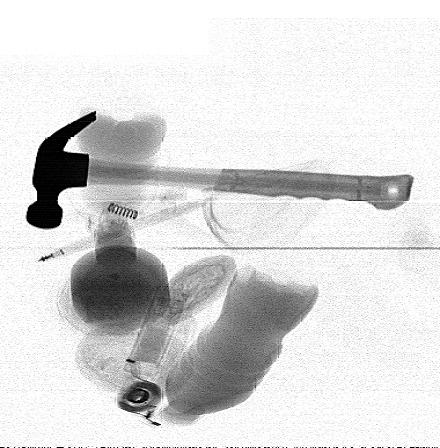Hammer: (26, 110, 415, 231)
